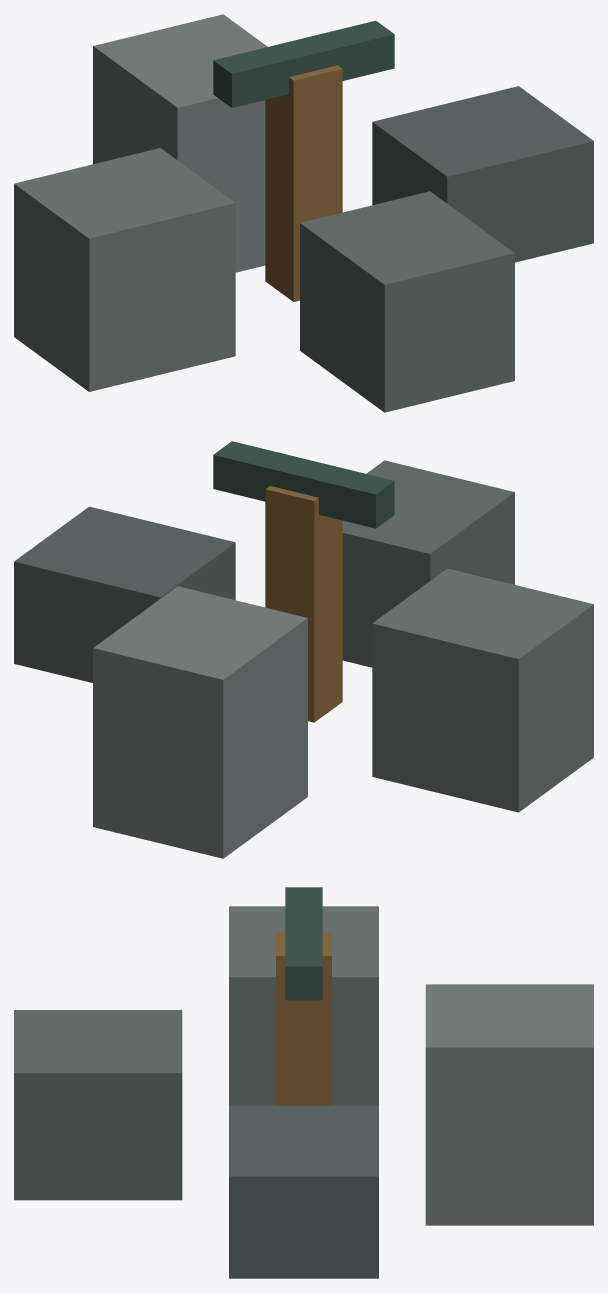
Rendered from imp_cai_shi_chang.glb.
3 renders of one model, top to bottom at view 1: azimuth 30°, elevation 25°; view 2: azimuth 150°, elevation 25°; view 3: azimuth 270°, elevation 25°, orthographic.
Visible parts, largest first — view 1: _MeshInstance3D_191, _MeshInstance3D_190, _MeshInstance3D_189, _MeshInstance3D_192, _MeshInstance3D_193, _MeshInstance3D_194; view 2: _MeshInstance3D_192, _MeshInstance3D_191, _MeshInstance3D_189, _MeshInstance3D_190, _MeshInstance3D_193, _MeshInstance3D_194; view 3: _MeshInstance3D_192, _MeshInstance3D_190, _MeshInstance3D_189, _MeshInstance3D_191, _MeshInstance3D_193, _MeshInstance3D_194.
Part boxes in pixels (bbox=[...]): _MeshInstance3D_191: bbox=[14, 148, 235, 391]; _MeshInstance3D_190: bbox=[300, 191, 514, 412]; _MeshInstance3D_189: bbox=[372, 86, 593, 262]; _MeshInstance3D_192: bbox=[93, 14, 267, 272]; _MeshInstance3D_193: bbox=[265, 65, 342, 301]; _MeshInstance3D_194: bbox=[213, 20, 394, 107]; _MeshInstance3D_192: bbox=[93, 586, 307, 858]; _MeshInstance3D_191: bbox=[372, 568, 593, 812]; _MeshInstance3D_189: bbox=[14, 506, 235, 682]; _MeshInstance3D_190: bbox=[342, 460, 514, 667]; _MeshInstance3D_193: bbox=[265, 486, 342, 722]; _MeshInstance3D_194: bbox=[213, 441, 394, 528]; _MeshInstance3D_192: bbox=[425, 984, 593, 1225]; _MeshInstance3D_190: bbox=[14, 1010, 182, 1200]; _MeshInstance3D_189: bbox=[229, 1105, 378, 1278]; _MeshInstance3D_191: bbox=[229, 906, 378, 1105]; _MeshInstance3D_193: bbox=[276, 932, 331, 1105]; _MeshInstance3D_194: bbox=[285, 887, 322, 1000].
Bounding box in the file's own units: 0.62 × 0.315 × 0.62.
